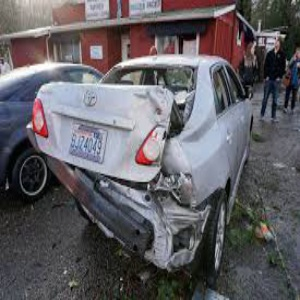bonnet: (39, 79, 172, 177)
bumper: (96, 200, 211, 270)
